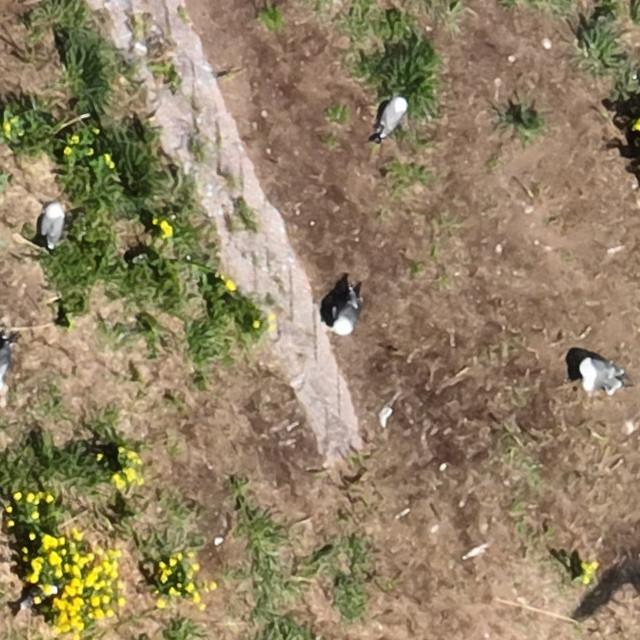umineko: (381, 98, 407, 134), (582, 361, 619, 386), (43, 204, 64, 246), (335, 298, 358, 333), (0, 347, 9, 384)
